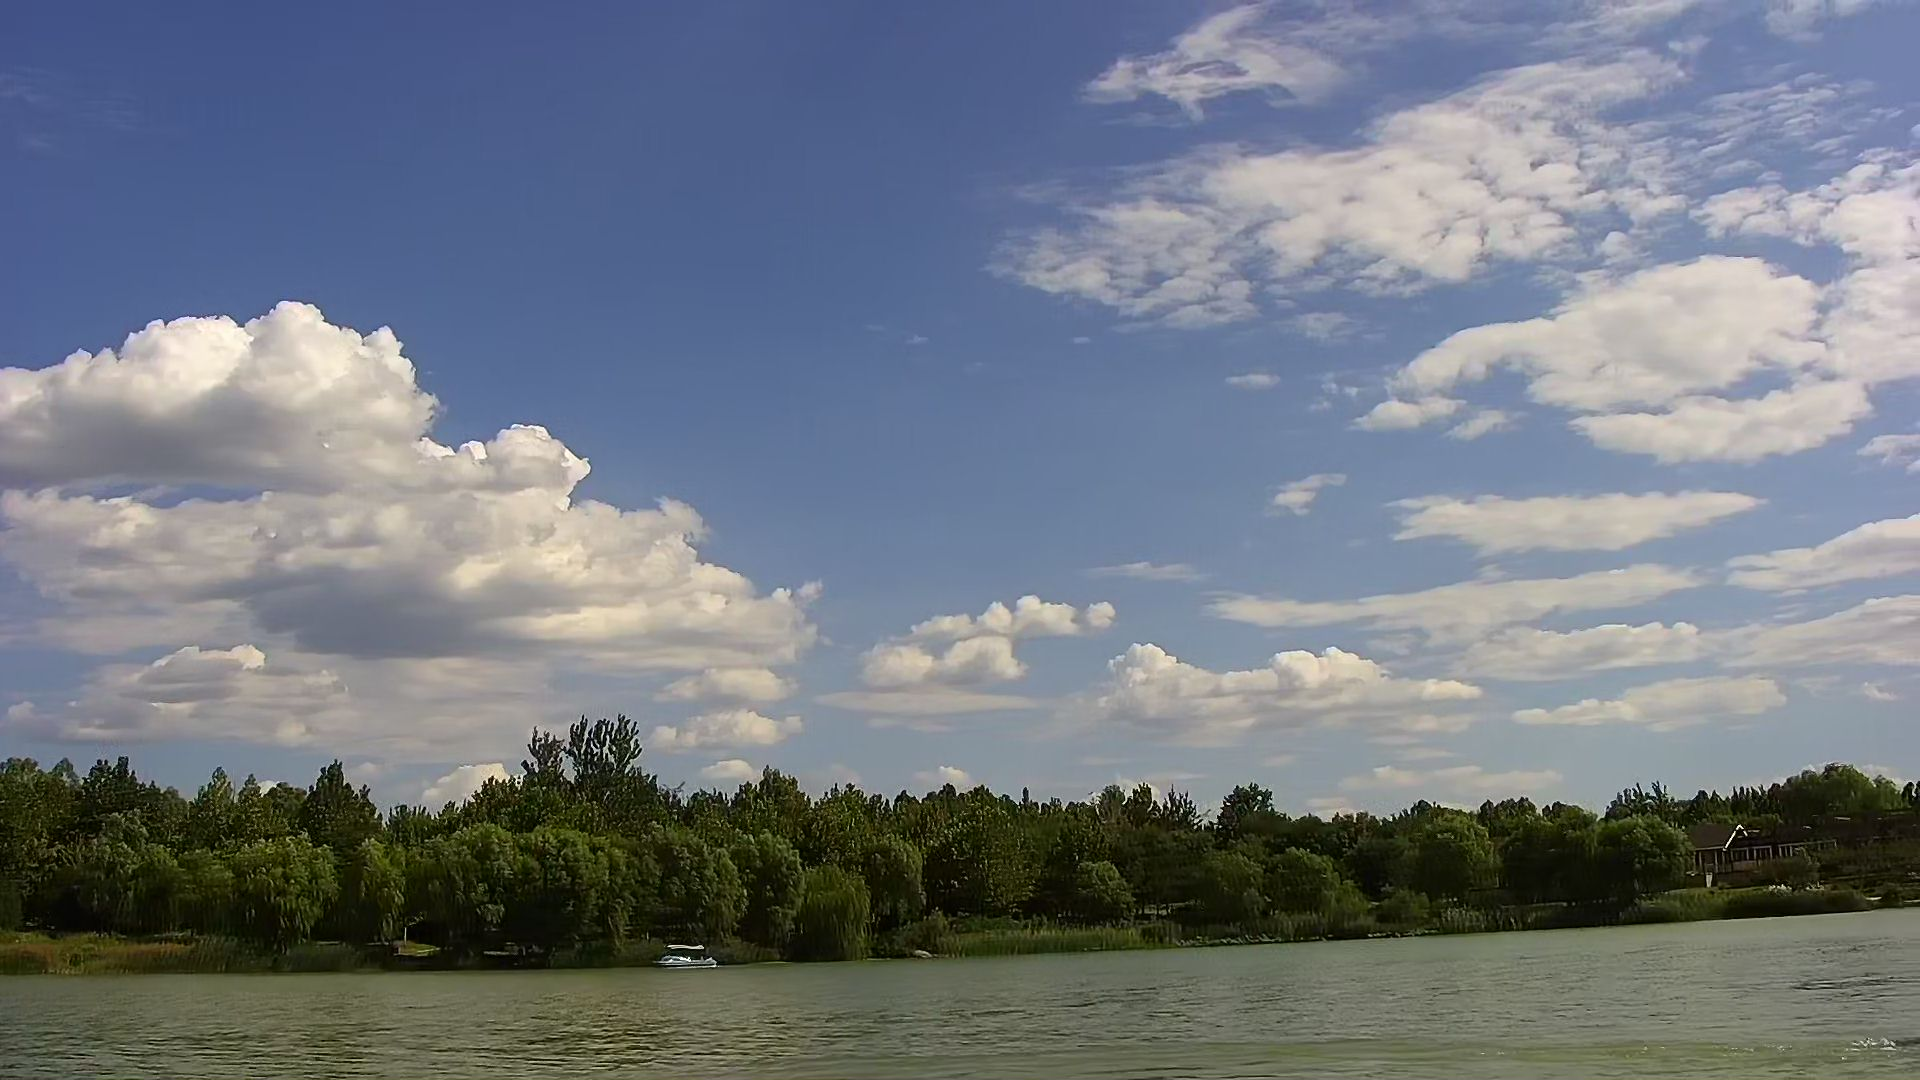boat: (651, 939, 711, 972)
